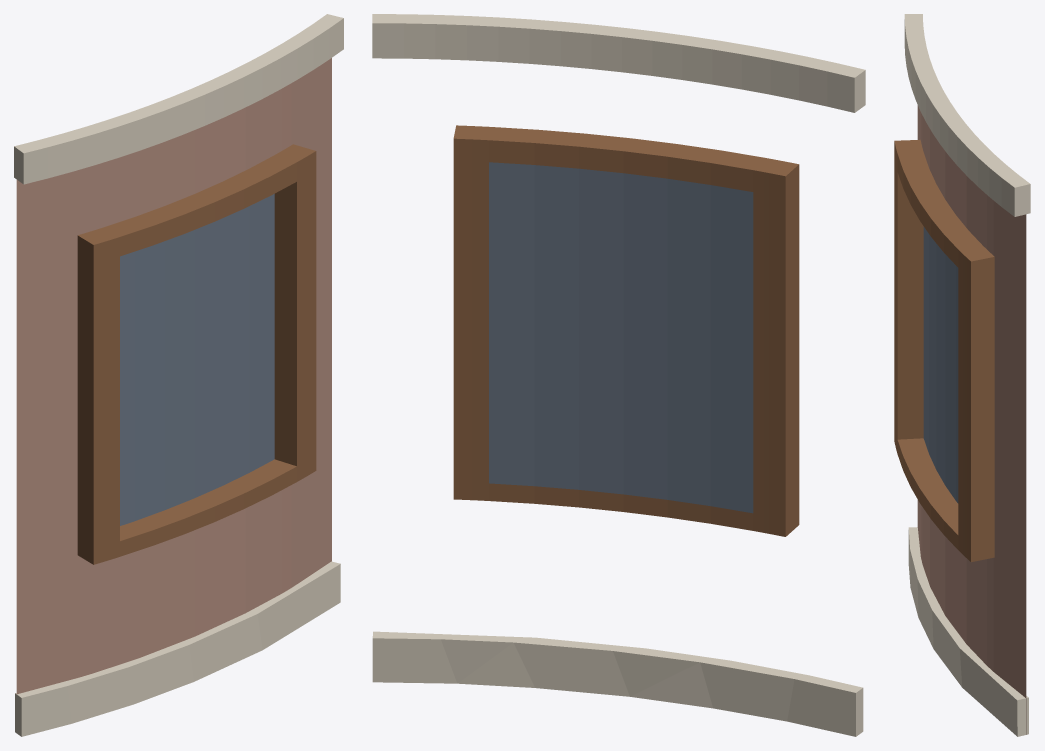
Rendered from ArcWindow_R4_A30.glb.
3 renders of one model, left to right at view 1: azimuth 30°, elevation 25°; view 2: azimuth 150°, elevation 25°; view 3: azimuth 270°, elevation 25°, orthographic. The views are drawn at different scales.
Visible parts, largest first — view 1: PBK_Brick_ArcWindow_R4_A30_Exterior_Surface.001, PBK_Arc_PBK_glass.002, PBK_Continuous_Frame_Brick_Window.003, PBK_Arc_PBK_base_trim.007, PBK_floor_band.048; view 2: PBK_Arc_PBK_glass.002, PBK_Continuous_Frame_Brick_Window.003, PBK_Arc_PBK_base_trim.007, PBK_floor_band.048; view 3: PBK_Continuous_Frame_Brick_Window.003, PBK_Brick_ArcWindow_R4_A30_Exterior_Surface.001, PBK_Arc_PBK_glass.002, PBK_floor_band.048, PBK_Arc_PBK_base_trim.007.
Boxes of the visible parts, bbox=[...] form: PBK_Brick_ArcWindow_R4_A30_Exterior_Surface.001: bbox=[16, 58, 331, 694]; PBK_Arc_PBK_glass.002: bbox=[120, 194, 274, 525]; PBK_Continuous_Frame_Brick_Window.003: bbox=[77, 144, 316, 564]; PBK_Arc_PBK_base_trim.007: bbox=[15, 561, 340, 736]; PBK_floor_band.048: bbox=[14, 14, 343, 184]; PBK_Arc_PBK_glass.002: bbox=[489, 162, 753, 513]; PBK_Continuous_Frame_Brick_Window.003: bbox=[453, 125, 799, 536]; PBK_Arc_PBK_base_trim.007: bbox=[372, 631, 863, 736]; PBK_floor_band.048: bbox=[372, 14, 865, 112]; PBK_Continuous_Frame_Brick_Window.003: bbox=[894, 139, 994, 562]; PBK_Brick_ArcWindow_R4_A30_Exterior_Surface.001: bbox=[917, 105, 1026, 734]; PBK_Arc_PBK_glass.002: bbox=[923, 227, 958, 503]; PBK_floor_band.048: bbox=[904, 14, 1030, 216]; PBK_Arc_PBK_base_trim.007: bbox=[908, 527, 1028, 736].
Bounding box in the file's own units: 2.03 × 3 × 0.6731.
